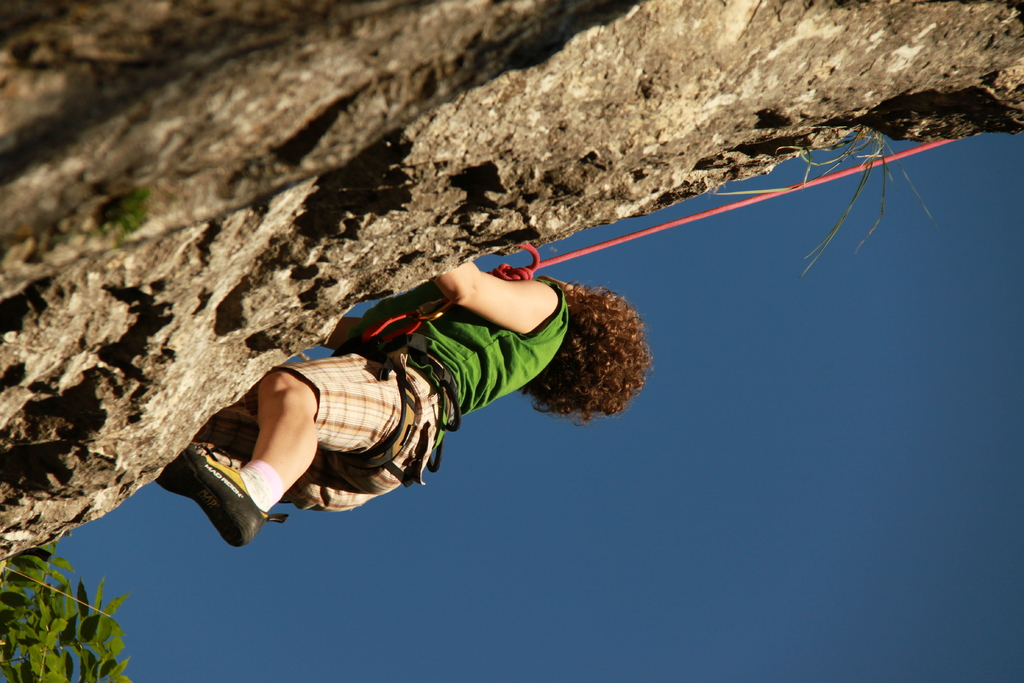Person: (153, 259, 654, 546)
